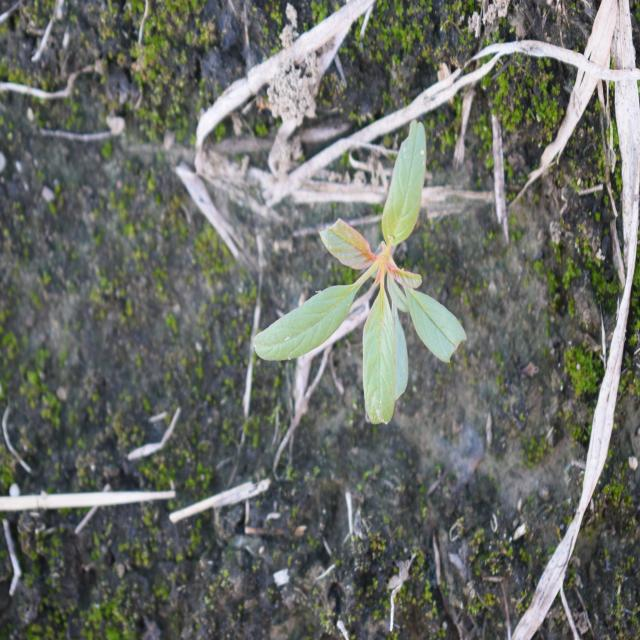Waterhemp: (252, 117, 469, 427)
